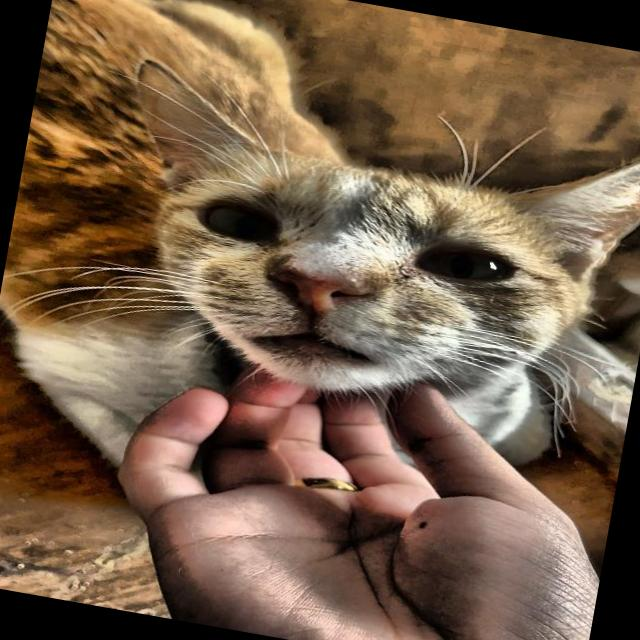Healthy skin: (38, 36, 252, 186), (348, 282, 518, 399)
